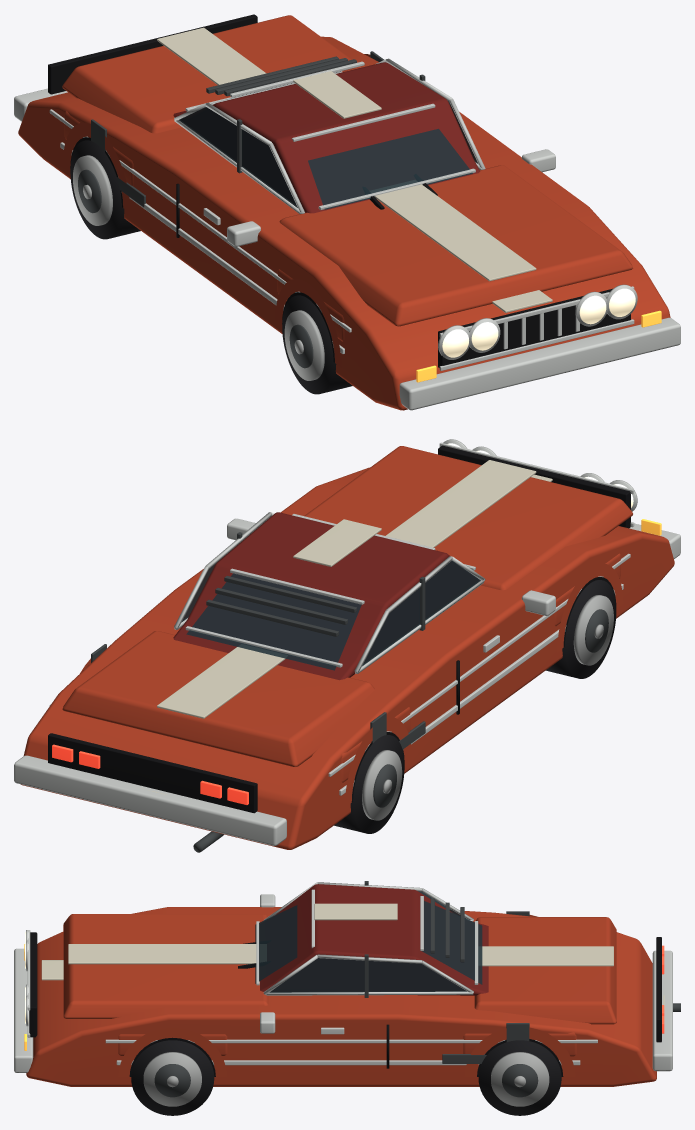
Rendered from sabre-turbo.glb.
3 views of the same model, one above another, from view 1: azimuth 30°, elevation 25°; view 2: azimuth 150°, elevation 25°; view 3: azimuth 270°, elevation 25° (orthographic). The views are drawn at different scales.
Parts seen in each view (by area): view 1: Body_AttachedMuscleShell, Hood_IntegratedLongMuscleHood, Cabin_AttachedFastbackGreenhouse, Trunk_IntegratedSlopedDeck, Front_ChromeBumper_Attached, Glass_AttachedWindshield, Stripe_FlushHoodCenter, Glass_AttachedSideWindow_Left, Stripe_FlushRearDeckCenter, Front_BlackInsetGrille, Rear_BlackInsetPanel, Stripe_FlushRoofCenter (+22 smaller); view 2: Body_AttachedMuscleShell, Trunk_IntegratedSlopedDeck, Hood_IntegratedLongMuscleHood, Cabin_AttachedFastbackGreenhouse, Rear_ChromeBumper_Attached, Glass_AttachedRearWindow, Rear_BlackInsetPanel, Stripe_FlushHoodCenter, Stripe_FlushRearDeckCenter, Glass_AttachedSideWindow_Left, Stripe_FlushRoofCenter, WheelMesh_WheelFrontLeft (+18 smaller); view 3: Body_AttachedMuscleShell, Hood_IntegratedLongMuscleHood, Trunk_IntegratedSlopedDeck, Cabin_AttachedFastbackGreenhouse, Glass_AttachedSideWindow_Right, Stripe_FlushHoodCenter, Stripe_FlushRearDeckCenter, Glass_AttachedRearWindow, WheelMesh_WheelRearRight, WheelMesh_WheelFrontRight, Glass_AttachedWindshield, Rear_ChromeBumper_Attached (+19 smaller).
Boxes of the visible parts, x1,y1,x2,y2 form: Body_AttachedMuscleShell: (18,36,670,410); Hood_IntegratedLongMuscleHood: (279,165,633,326); Cabin_AttachedFastbackGreenhouse: (173,62,480,213); Trunk_IntegratedSlopedDeck: (62,15,362,133); Front_ChromeBumper_Attached: (399,317,680,410); Glass_AttachedWindshield: (308,128,472,209); Stripe_FlushHoodCenter: (375,184,536,281); Glass_AttachedSideWindow_Left: (179,107,297,207); Stripe_FlushRearDeckCenter: (157,27,266,85); Front_BlackInsetGrille: (438,288,630,367); Rear_BlackInsetPanel: (48,14,257,94); Stripe_FlushRoofCenter: (293,71,381,118); Body_AttachedMuscleShell: (21,467,674,849); Trunk_IntegratedSlopedDeck: (62,631,374,767); Hood_IntegratedLongMuscleHood: (304,446,632,590); Cabin_AttachedFastbackGreenhouse: (173,512,449,680); Rear_ChromeBumper_Attached: (14,755,286,845); Glass_AttachedRearWindow: (186,573,361,670); Rear_BlackInsetPanel: (48,733,257,813); Stripe_FlushHoodCenter: (385,460,536,547); Stripe_FlushRearDeckCenter: (157,647,285,718); Glass_AttachedSideWindow_Left: (362,561,480,666); Stripe_FlushRoofCenter: (293,519,381,566); WheelMesh_WheelFrontLeft: (546,580,616,678); Body_AttachedMuscleShell: (26,907,656,1086); Hood_IntegratedLongMuscleHood: (63,914,268,1018); Trunk_IntegratedSlopedDeck: (474,917,616,1024); Cabin_AttachedFastbackGreenhouse: (260,884,488,995); Glass_AttachedSideWindow_Right: (269,958,466,992); Stripe_FlushHoodCenter: (68,944,256,964); Stripe_FlushRearDeckCenter: (482,946,613,966); Glass_AttachedRearWindow: (422,901,482,984); WheelMesh_WheelRearRight: (478,1040,561,1115); WheelMesh_WheelFrontRight: (131,1040,214,1115); Glass_AttachedWindshield: (255,905,297,983); Rear_ChromeBumper_Attached: (652,950,672,1071).
Bounding box in the file's own units: 2.86 × 1.53 × 6.26.
